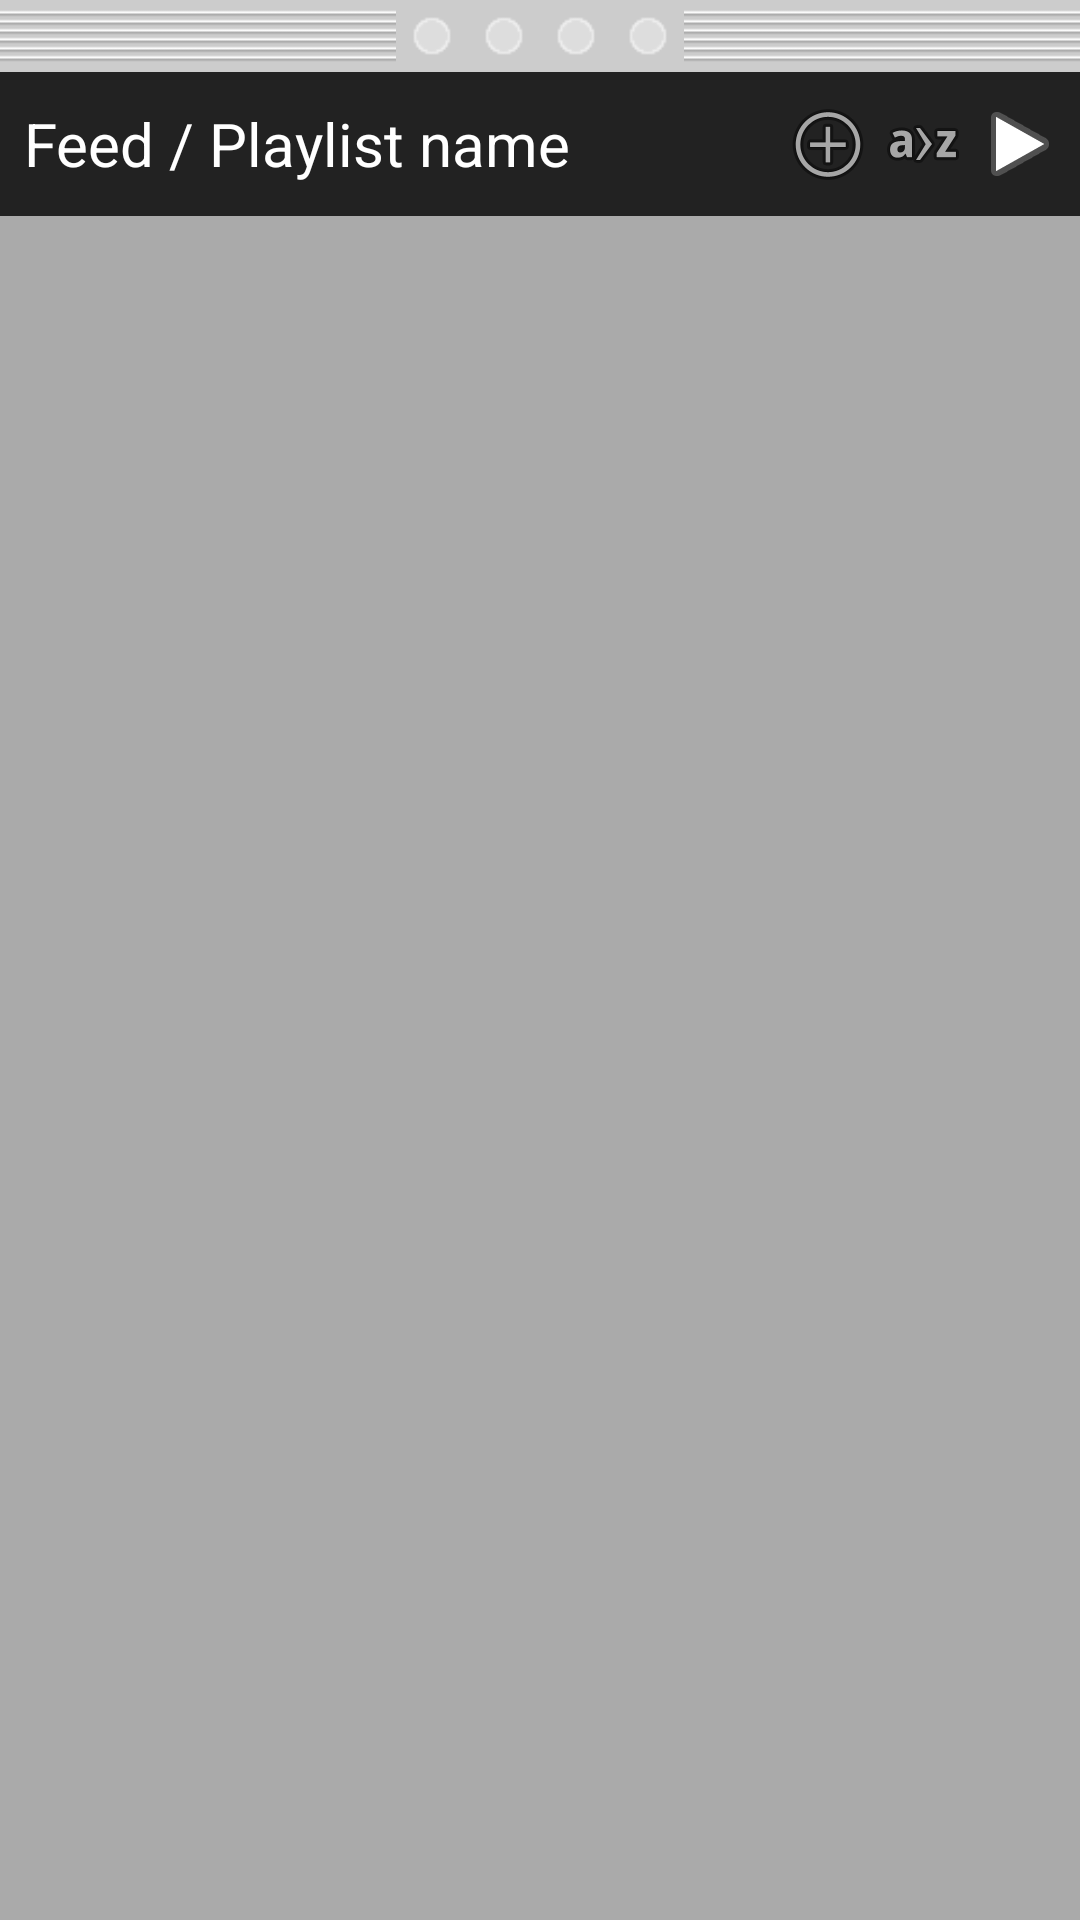

Icon bounding boxes for this 1080 × 1920 phone screenshot, format (x1, y1, x2, y2):
add: (796, 112, 860, 177)
draggable dots: (396, 0, 684, 72)
play: (991, 112, 1049, 176)
sort alphabetically: (890, 128, 956, 160)
